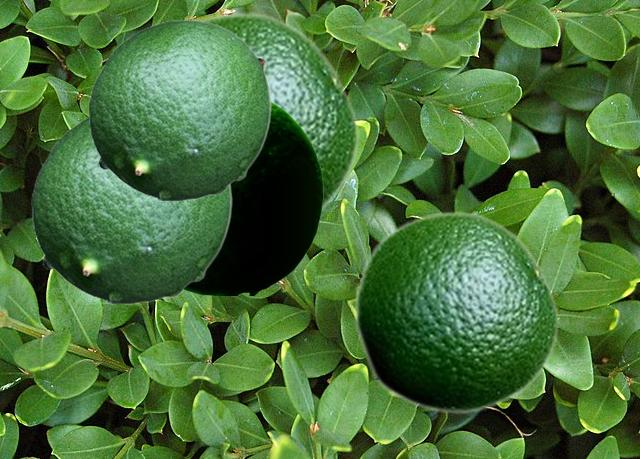calamansi: (353, 210, 559, 414), (31, 114, 231, 303), (196, 11, 359, 215), (88, 19, 270, 200), (184, 100, 322, 294)
